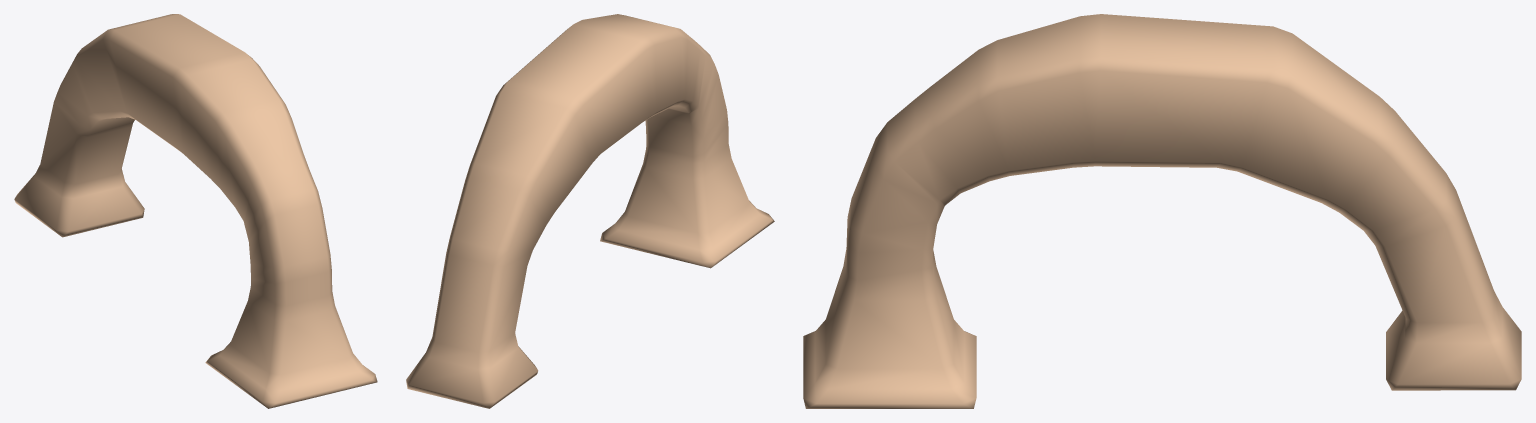
Rendered from Arch.fbx.
The picture shows the model from 3 angles, left to right: view 1: azimuth 30°, elevation 25°; view 2: azimuth 150°, elevation 25°; view 3: azimuth 270°, elevation 25°; orthographic projection. The views are drawn at different scales.
Visible parts, largest first — view 1: Cube; view 2: Cube; view 3: Cube.
Part boxes in pixels (x1,y1,x2,y2): Cube: (14, 14, 377, 408); Cube: (406, 14, 774, 408); Cube: (803, 14, 1521, 408).
Bounding box in the file's own units: 396 × 852 × 1641.
